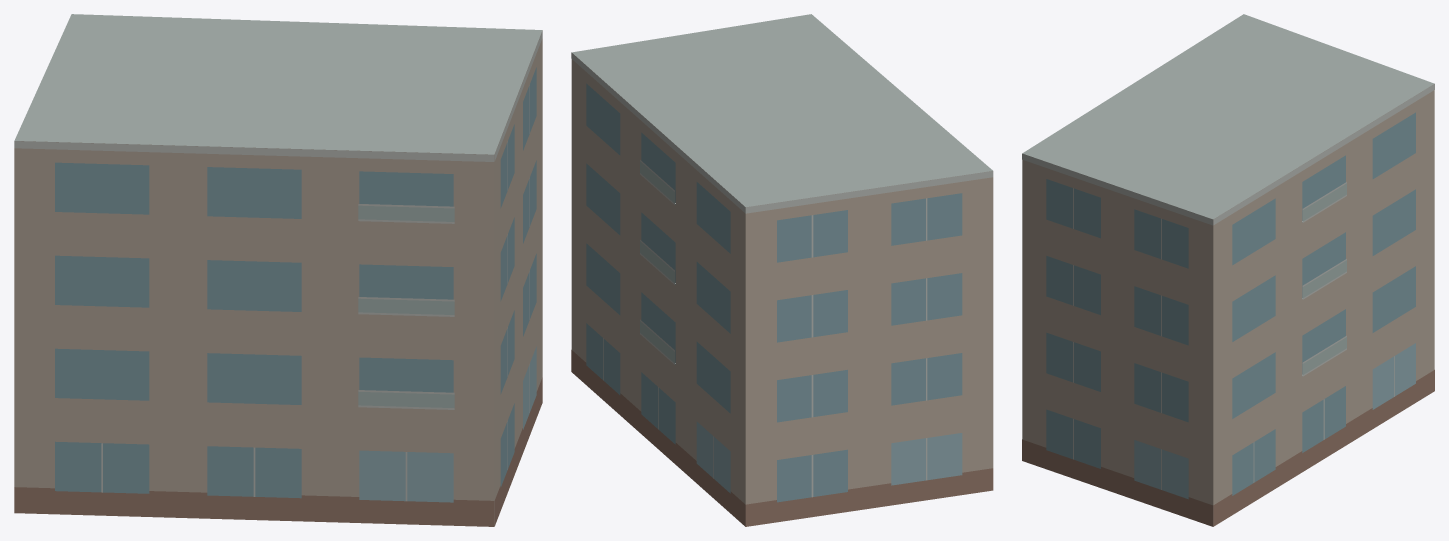
The model's file is residential-3a30f89d-261d-4cf3-b0bc-6267e6b490f8.glb.
3 renders of one model, left to right at view 1: azimuth 30°, elevation 25°; view 2: azimuth 150°, elevation 25°; view 3: azimuth 270°, elevation 25°, orthographic. The views are drawn at different scales.
Parts seen in each view (by area): view 1: residential-3a30f89d-261d-4cf3-b0bc-6267e6b490f8.tmp; view 2: residential-3a30f89d-261d-4cf3-b0bc-6267e6b490f8.tmp; view 3: residential-3a30f89d-261d-4cf3-b0bc-6267e6b490f8.tmp.
Part boxes in pixels (x1,y1,x2,y2): residential-3a30f89d-261d-4cf3-b0bc-6267e6b490f8.tmp: [14, 14, 542, 526]; residential-3a30f89d-261d-4cf3-b0bc-6267e6b490f8.tmp: [571, 14, 993, 526]; residential-3a30f89d-261d-4cf3-b0bc-6267e6b490f8.tmp: [1022, 14, 1434, 526].
Bounding box in the file's own units: 17.49 × 12.2 × 14.85.
